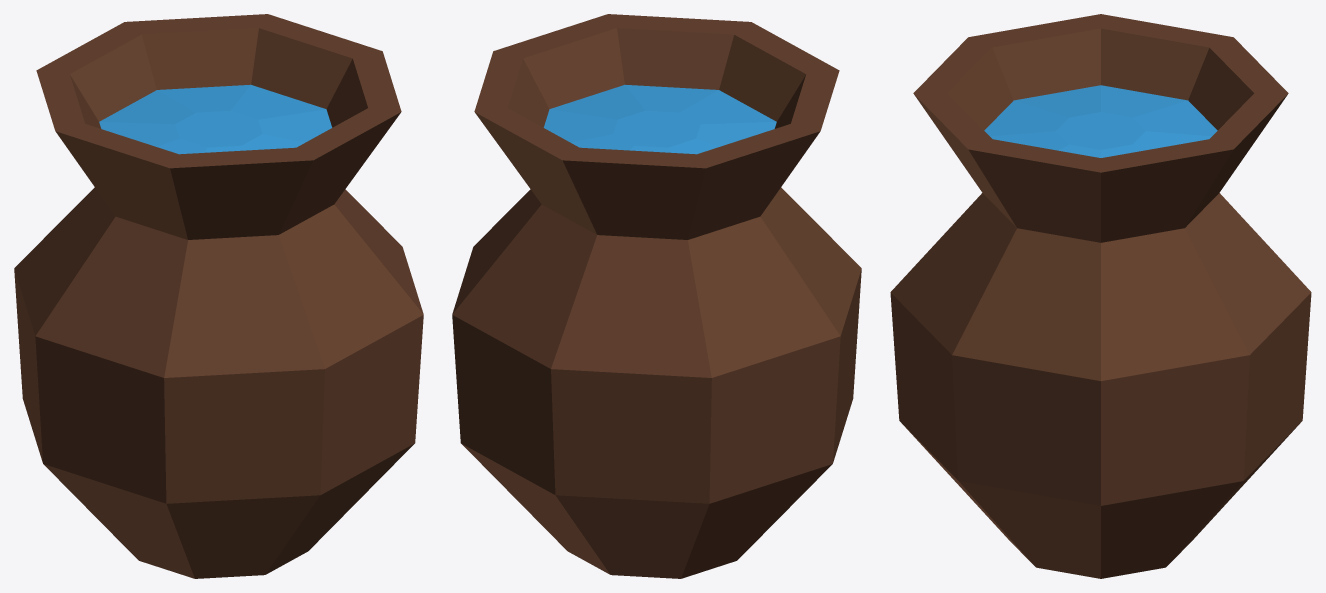
File: JugWather.fbx
3 renders of one model, left to right at view 1: azimuth 30°, elevation 25°; view 2: azimuth 150°, elevation 25°; view 3: azimuth 270°, elevation 25°, orthographic.
Parts seen in each view (by area): view 1: Honey; view 2: Honey; view 3: Honey.
Boxes of the visible parts, x1,y1,x2,y2 form: Honey: [14, 14, 423, 578]; Honey: [452, 14, 861, 578]; Honey: [890, 14, 1311, 578].
Size of the model in its own units: 1.92 by 2.25 by 1.92.
